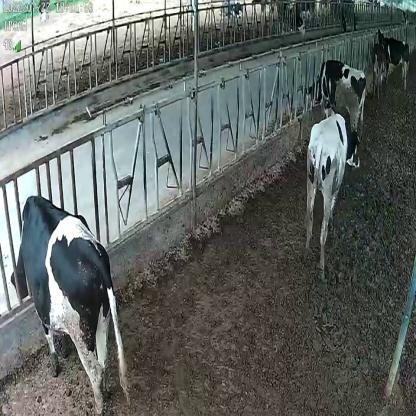cow: (9, 190, 132, 416), (302, 109, 360, 277), (306, 57, 367, 139), (372, 29, 387, 97)
